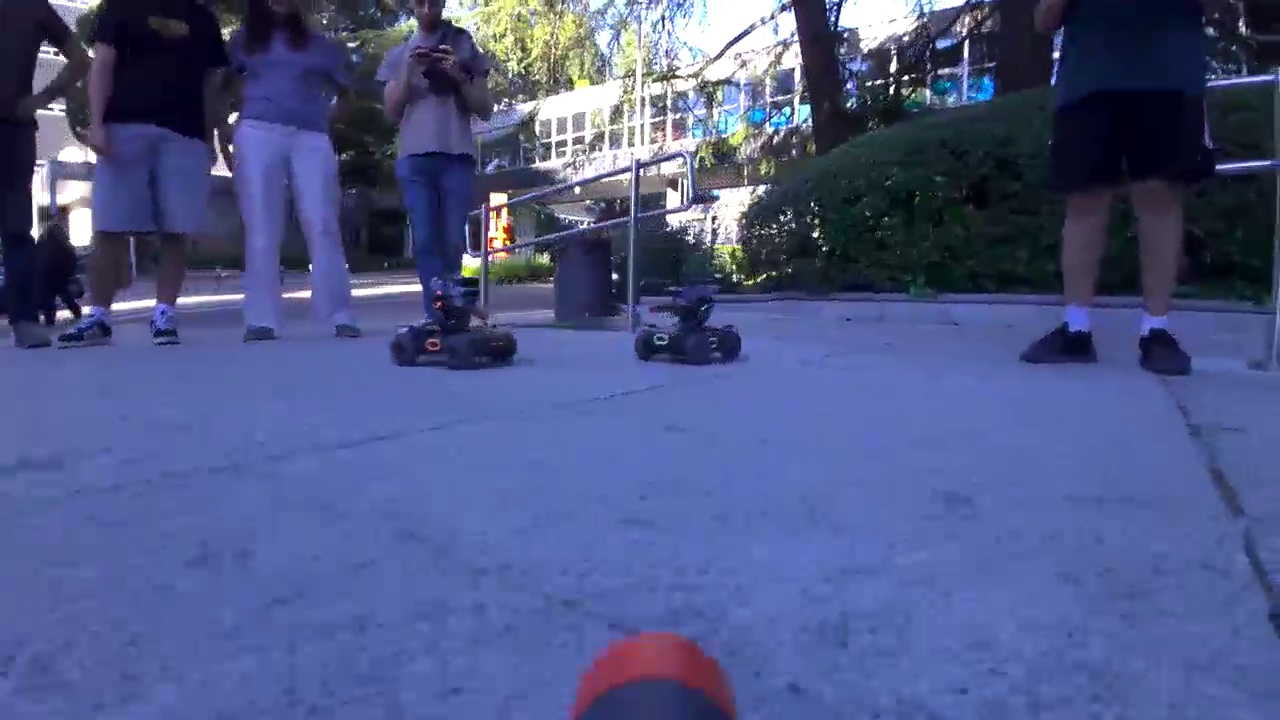robot: (390, 273, 525, 373), (631, 278, 746, 372)
